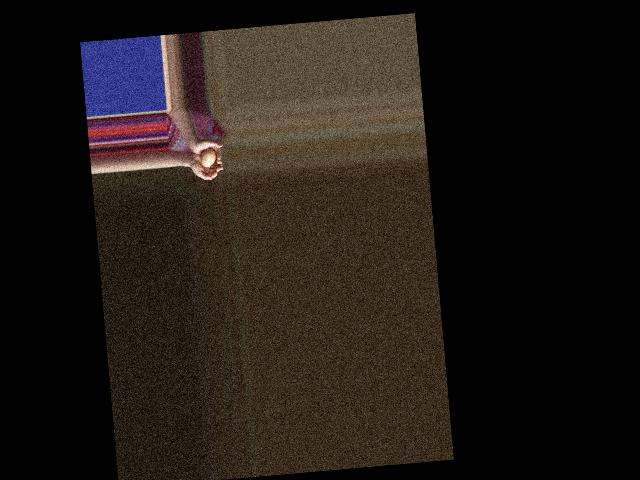egg: (200, 147, 217, 167)
